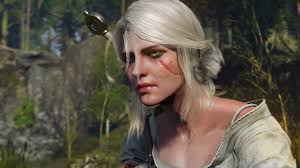white_female: (93, 11, 191, 110)
